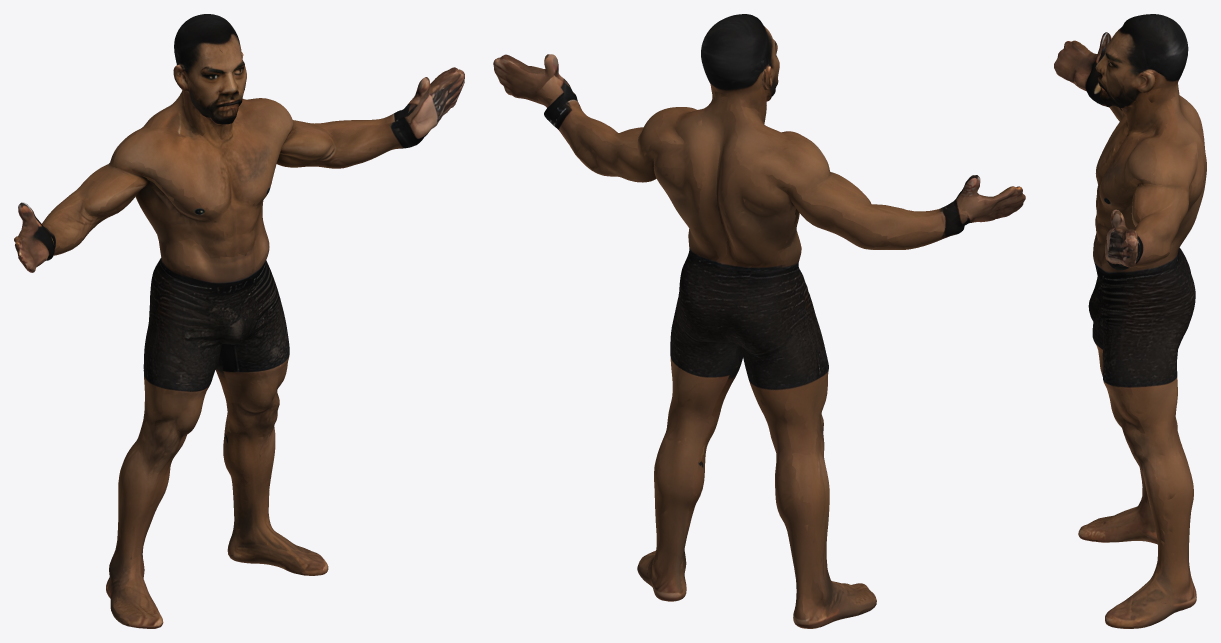
Rendered from fighter_apose_02.obj.
3 renders of one model, left to right at view 1: azimuth 30°, elevation 25°; view 2: azimuth 150°, elevation 25°; view 3: azimuth 270°, elevation 25°, orthographic. The views are drawn at different scales.
Parts seen in each view (by area): view 1: textured_mesh; view 2: textured_mesh; view 3: textured_mesh.
Boxes of the visible parts, box(x1,y1,x2,y2) form: textured_mesh: box(14, 14, 464, 628); textured_mesh: box(493, 14, 1025, 628); textured_mesh: box(1054, 14, 1206, 628).
Bounding box in the file's own units: 1.78 × 1.99 × 0.4903.
1 material, 1 textured.
